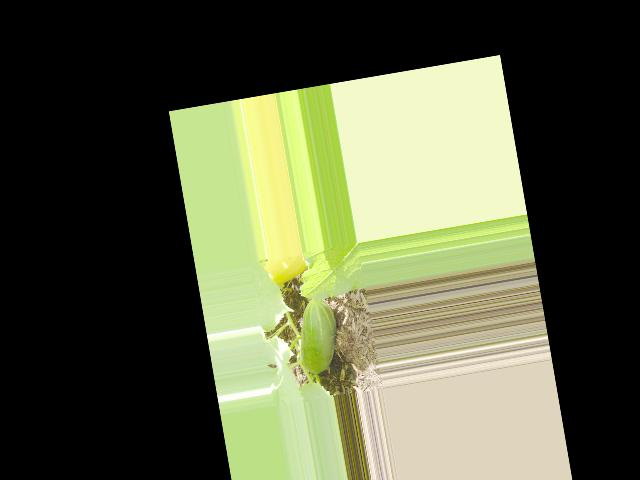cucumber: (292, 296, 344, 376)
